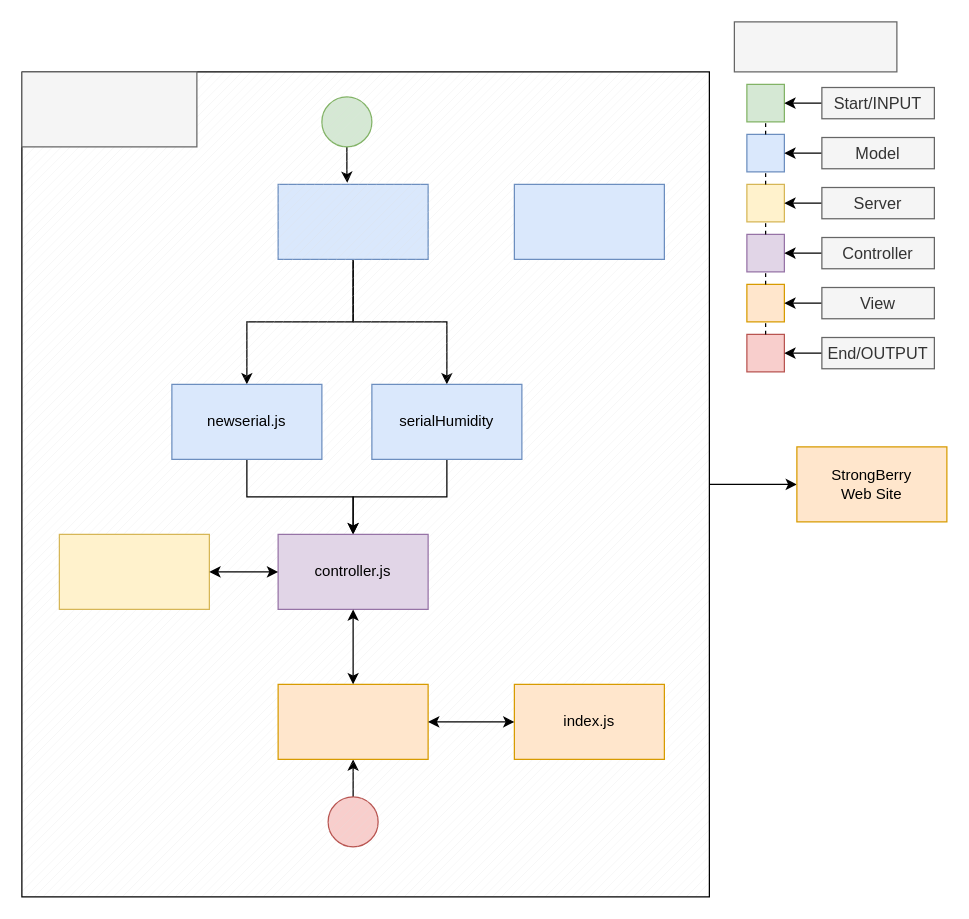
Image size: 969x919. Some labels were removed from this diagram. The centre of each missing label's shape, as x and y in pixels:
API: the point at 109,109
Graph_lm35_dht11: the point at 352,721
Legenda: the point at 815,46
sensors.js: the point at 352,221
server.js: the point at 133,571
strong_berry.js: the point at 588,221
